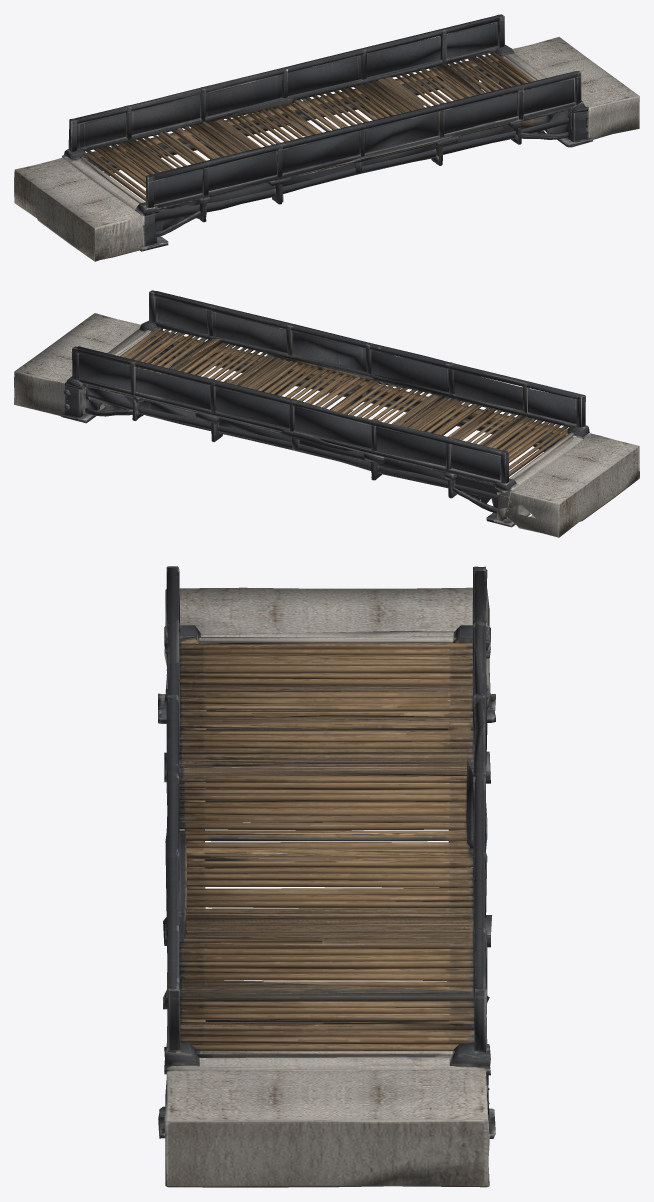
The model's file is midori_secondary_footbridge_v1.glb.
3 views of the same model, one above another, from view 1: azimuth 30°, elevation 25°; view 2: azimuth 150°, elevation 25°; view 3: azimuth 270°, elevation 25° (orthographic). The views are drawn at different scales.
Bounding box in the file's own units: 1 × 0.1265 × 0.2686.
Materials: 1 (1 with a texture image).
